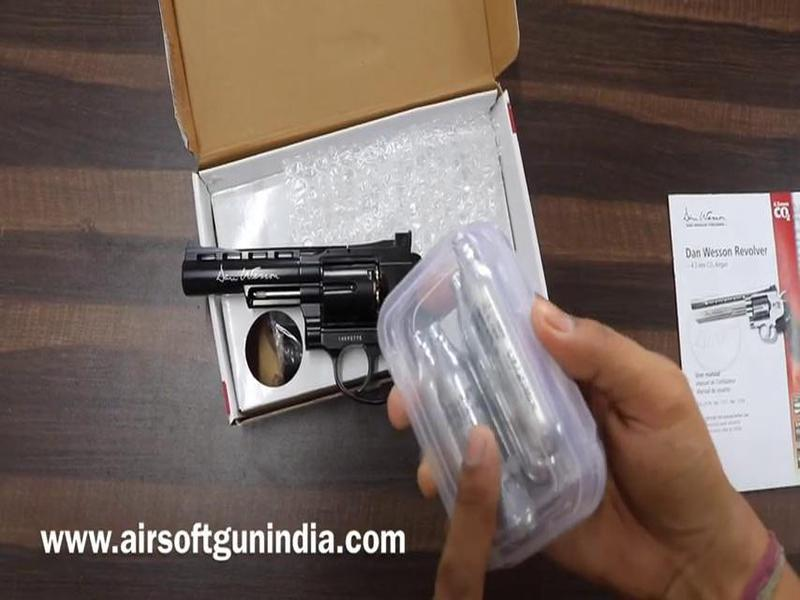Revolver: (161, 210, 486, 415)
